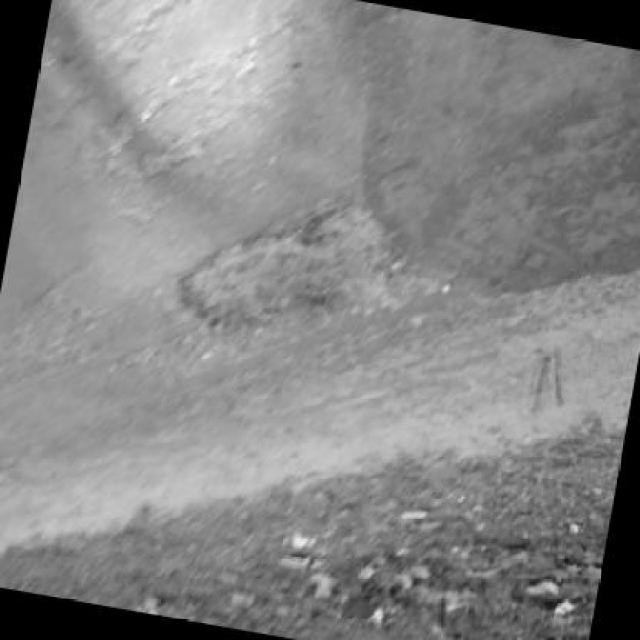pothole: (165, 180, 406, 363)
